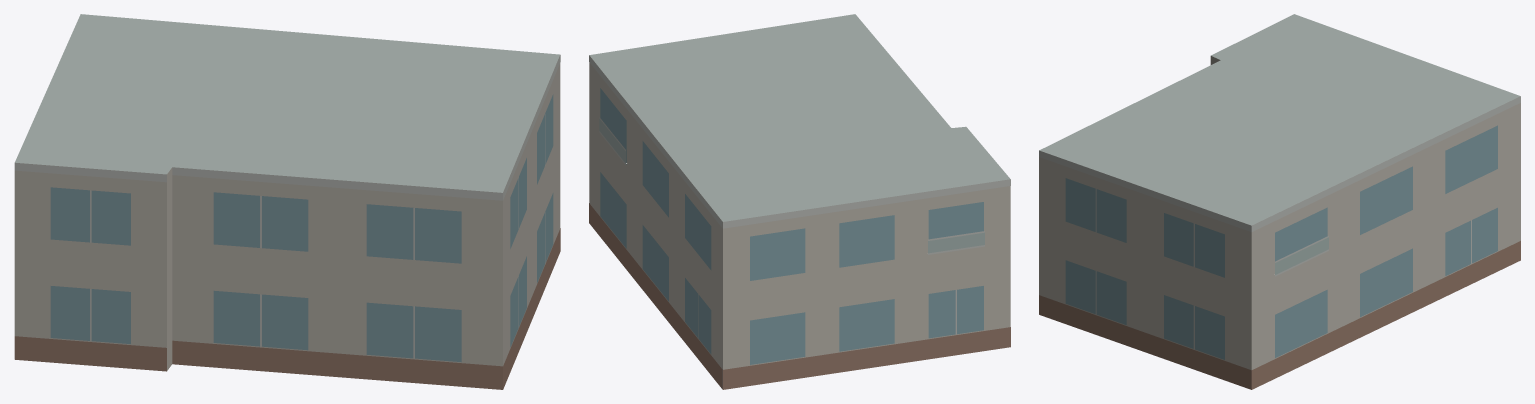
The model's file is survey-upis-32842080.glb.
The picture shows the model from 3 angles, left to right: view 1: azimuth 30°, elevation 25°; view 2: azimuth 150°, elevation 25°; view 3: azimuth 270°, elevation 25°; orthographic projection. The views are drawn at different scales.
Parts seen in each view (by area): view 1: survey-upis-32842080.tmp; view 2: survey-upis-32842080.tmp; view 3: survey-upis-32842080.tmp.
Part boxes in pixels (bbox=[...]): survey-upis-32842080.tmp: bbox=[14, 14, 560, 389]; survey-upis-32842080.tmp: bbox=[589, 14, 1010, 389]; survey-upis-32842080.tmp: bbox=[1039, 14, 1520, 389].
Size of the model in its own units: 16.87 by 6.1 by 16.22.
